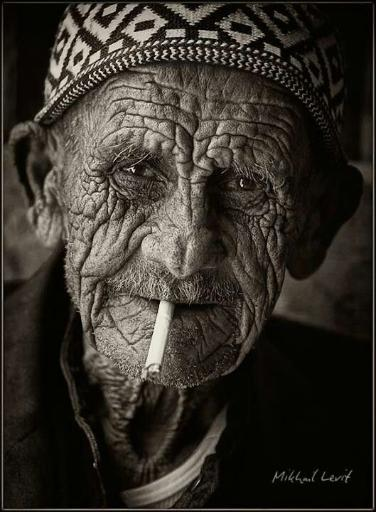left_eye: (221, 172, 270, 196)
right_eye: (116, 159, 164, 184)
